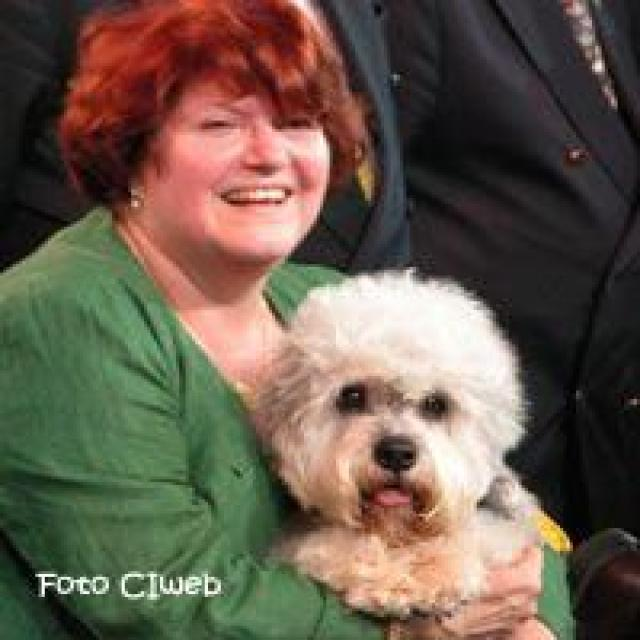dandie_dinmont: (268, 267, 538, 614)
